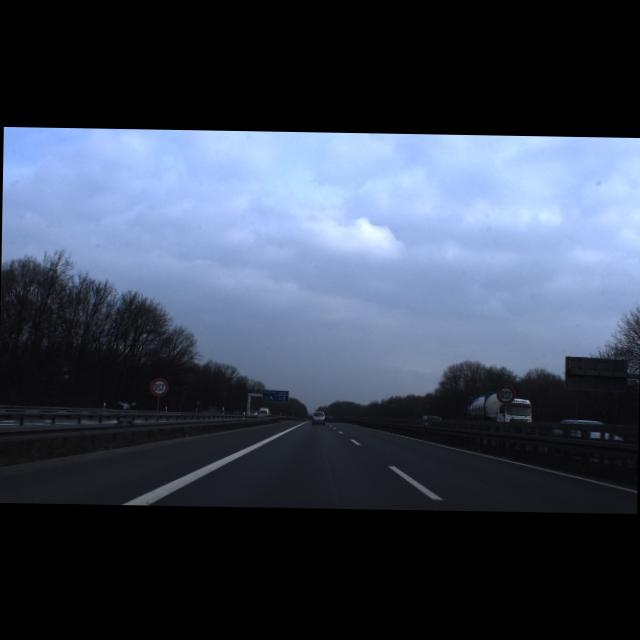prohibitory: (496, 385, 515, 404), (150, 378, 168, 397)
